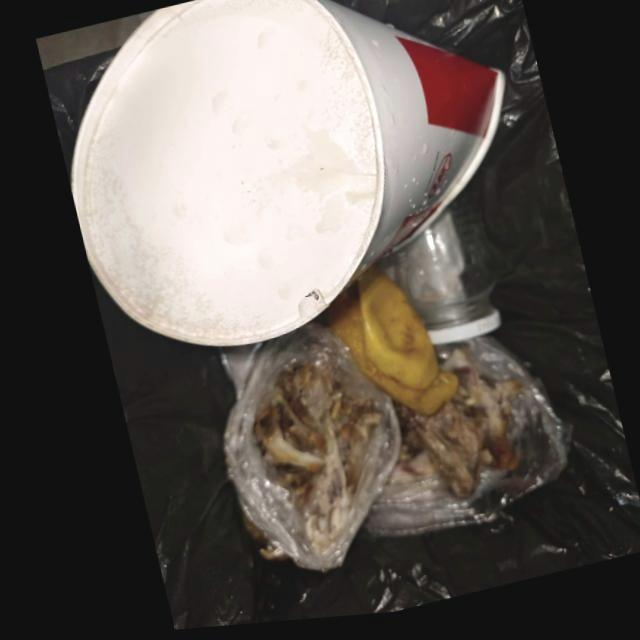cardboard: (66, 0, 504, 350)
glass_bottle: (389, 213, 496, 351)
left_over_food: (247, 368, 376, 561), (376, 357, 516, 506)
plastic_bag: (211, 318, 394, 580), (356, 345, 560, 540)
